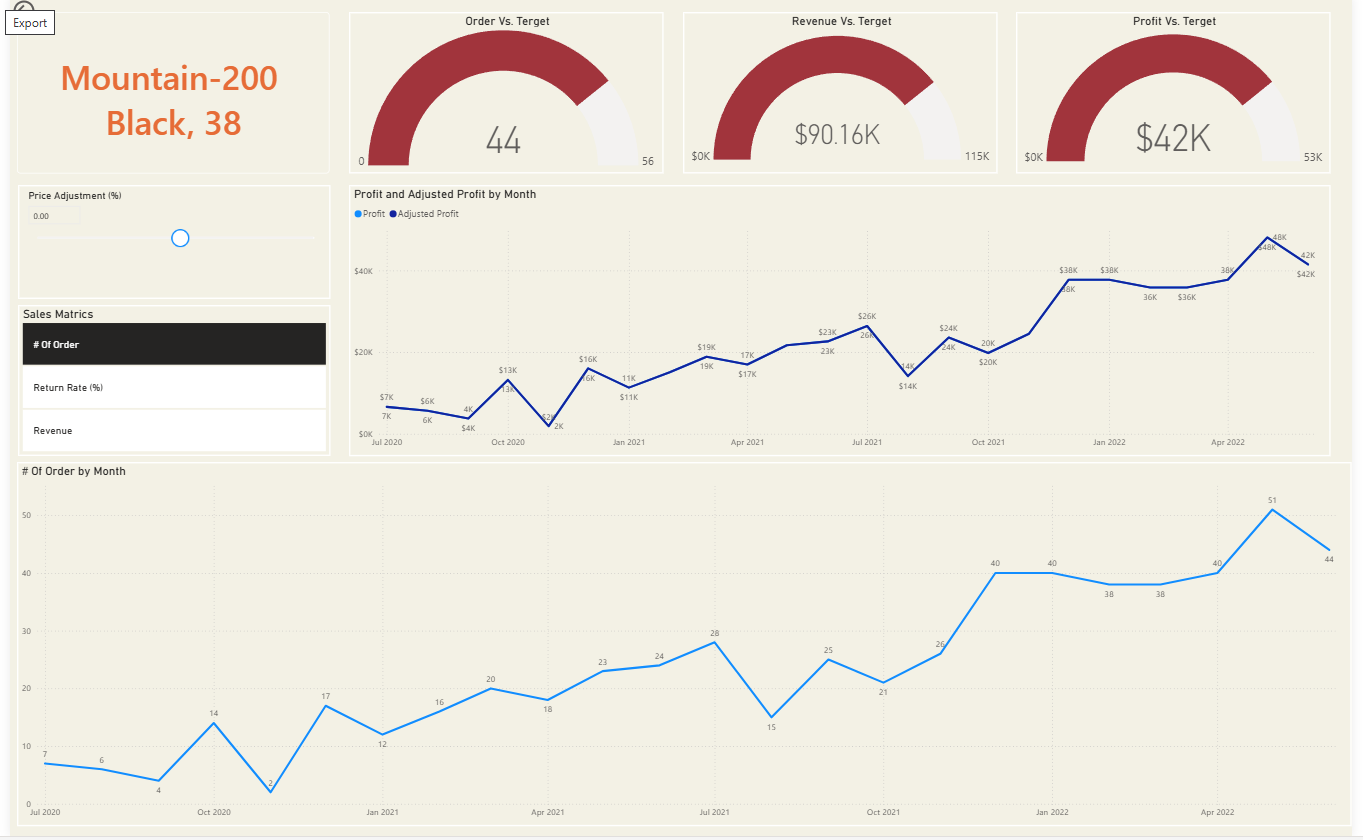

What the dashboard file says about the page in this screenshot:
{"tool":"powerbi","page":{"name":"Product Analytics","canvas":[1920,1200],"ordinal":3},"visuals":[{"type":"card","fields":{"Values":["Min(DimProduct.ProductName)"]},"box":[10.6,21.2,447.5,231.3],"z":0},{"type":"gauge","title":"Order Vs. Terget","fields":{"Y":["_Measure.# Of Order"],"MaxValue":["_Measure.Order Target"]},"box":[485.1,21.2,450,231.3],"z":1000},{"type":"gauge","title":"Revenue Vs. Terget","fields":{"Y":["_Measure.Revenue"],"MaxValue":["_Measure.Revenue Target"]},"box":[962.2,21.2,450,231.3],"z":2000},{"type":"gauge","title":"Profit Vs. Terget","fields":{"Y":["_Measure.Profit"],"MaxValue":["_Measure.Profit Target"]},"box":[1439.2,21.2,450,231.3],"z":3000},{"type":"actionButton","box":[0,0,100,40],"z":4000},{"type":"slicer","fields":{"Values":["Price Adjustment (%).Price Adjustment (%)"]},"box":[10.7,268.7,447.3,162.5],"z":5000},{"type":"lineChart","fields":{"Category":["DimDate.Start of the Month"],"Y":["_Measure.Profit","_Measure.Adjusted Profit"]},"box":[484.9,268.7,1403.7,388.2],"z":6000},{"type":"advancedSlicerVisual","fields":{"Values":["Sales Matrics.Sales Matrics"]},"box":[10.7,440.6,447.3,216.3],"z":7000},{"type":"lineChart","fields":{"Y":["_Measure.# Of Order"],"Category":["DimDate.Start of the Month"]},"box":[10.4,665.7,1909,520.9],"z":8000}]}

Visuals, with their boxes in screenshot pixels (x1, y1, x2, y2), scaled from the page's 1920x1200 canvas onto the 1363x840 screenshot:
card - Min(DimProduct.ProductName): {"left": 8, "top": 15, "right": 325, "bottom": 177}
"Order Vs. Terget" gauge: {"left": 344, "top": 15, "right": 664, "bottom": 177}
"Revenue Vs. Terget" gauge: {"left": 683, "top": 15, "right": 1003, "bottom": 177}
"Profit Vs. Terget" gauge: {"left": 1022, "top": 15, "right": 1341, "bottom": 177}
actionButton: {"left": 0, "top": 0, "right": 71, "bottom": 28}
slicer - Price Adjustment (%).Price Adjustment (%): {"left": 8, "top": 188, "right": 325, "bottom": 302}
lineChart - DimDate.Start of the Month x _Measure.Profit: {"left": 344, "top": 188, "right": 1341, "bottom": 460}
advancedSlicerVisual - Sales Matrics.Sales Matrics: {"left": 8, "top": 308, "right": 325, "bottom": 460}
lineChart - _Measure.# Of Order x DimDate.Start of the Month: {"left": 7, "top": 466, "right": 1362, "bottom": 831}
